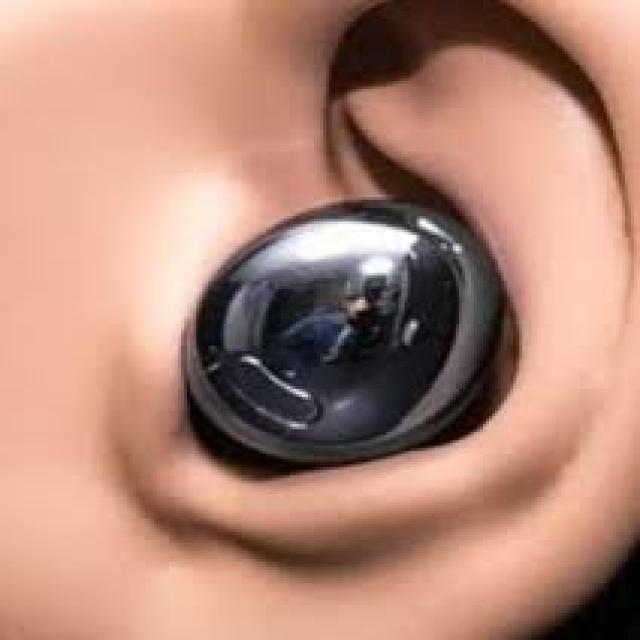earphone: (172, 148, 515, 467)
